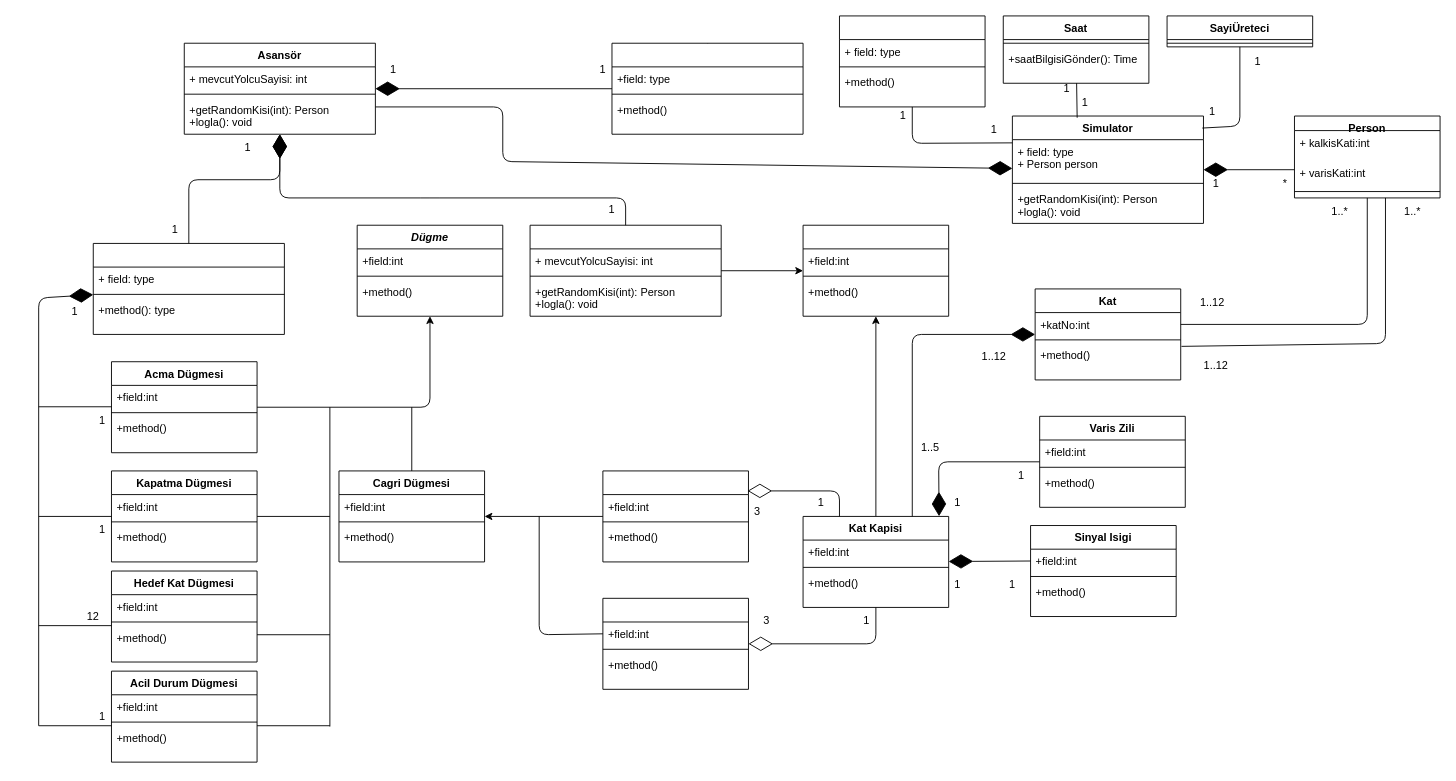
The diagram is 1456 pixels wide and 781 high, and some of its shapes have lost their labels. Here are the shapes that lost their labels. From the top down, the box of each, then its label:
(839, 15, 985, 107): Logger
(611, 42, 803, 134): Kat Gösterge Isigi
(92, 243, 284, 334): Kontrol Paneli
(529, 224, 721, 316): Asansör Kapisi
(802, 224, 949, 316): Kapi
(602, 470, 748, 562): Asagi Cagri Dügmesi
(602, 597, 748, 689): Yukari Cagri Dügmesi
